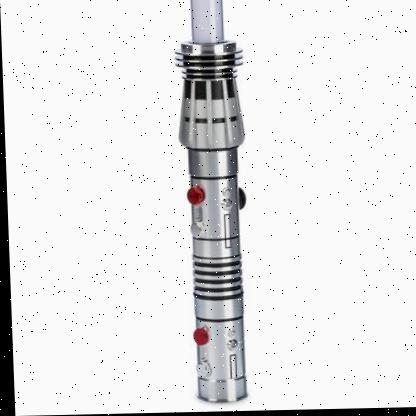lightsaber: (163, 0, 265, 412)
